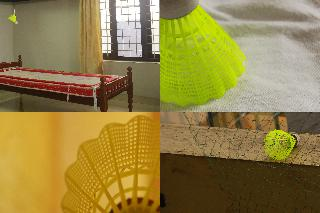shuttlecock: (61, 114, 159, 212), (160, 0, 246, 105), (264, 128, 300, 160), (8, 14, 16, 24)
